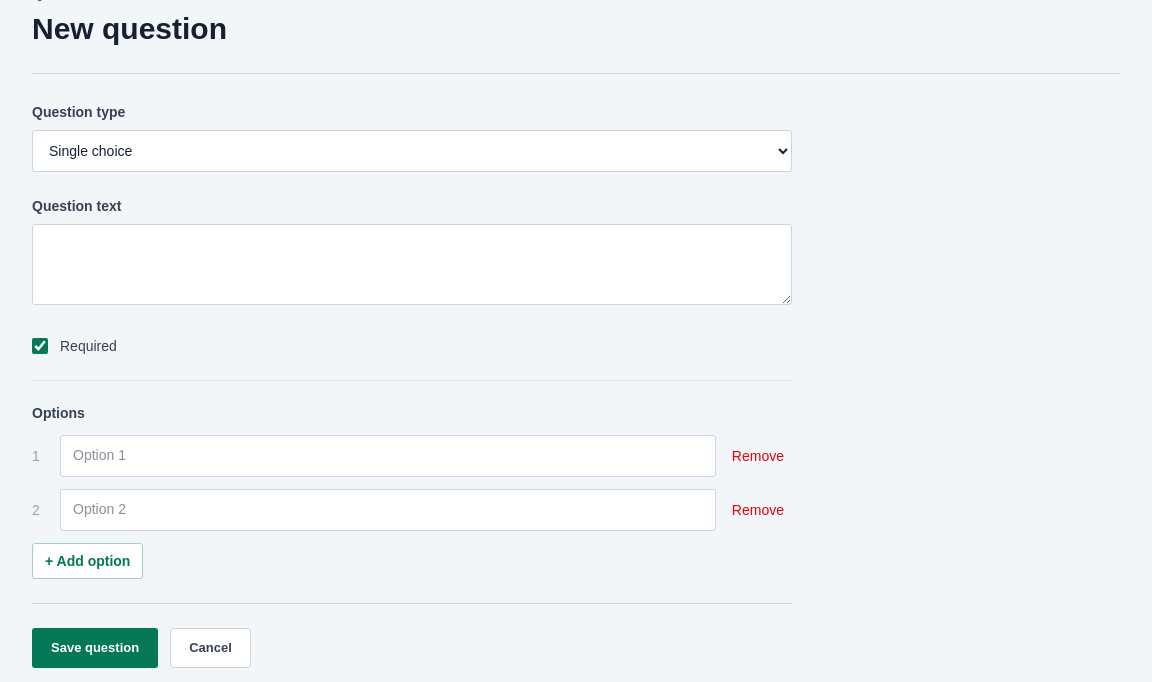
Test: question form workspace › keeps scale settings and option editing available
(page scrolled)
Step 1. Click the button "+ Add option" → (88, 560), box [32,542,143,578]
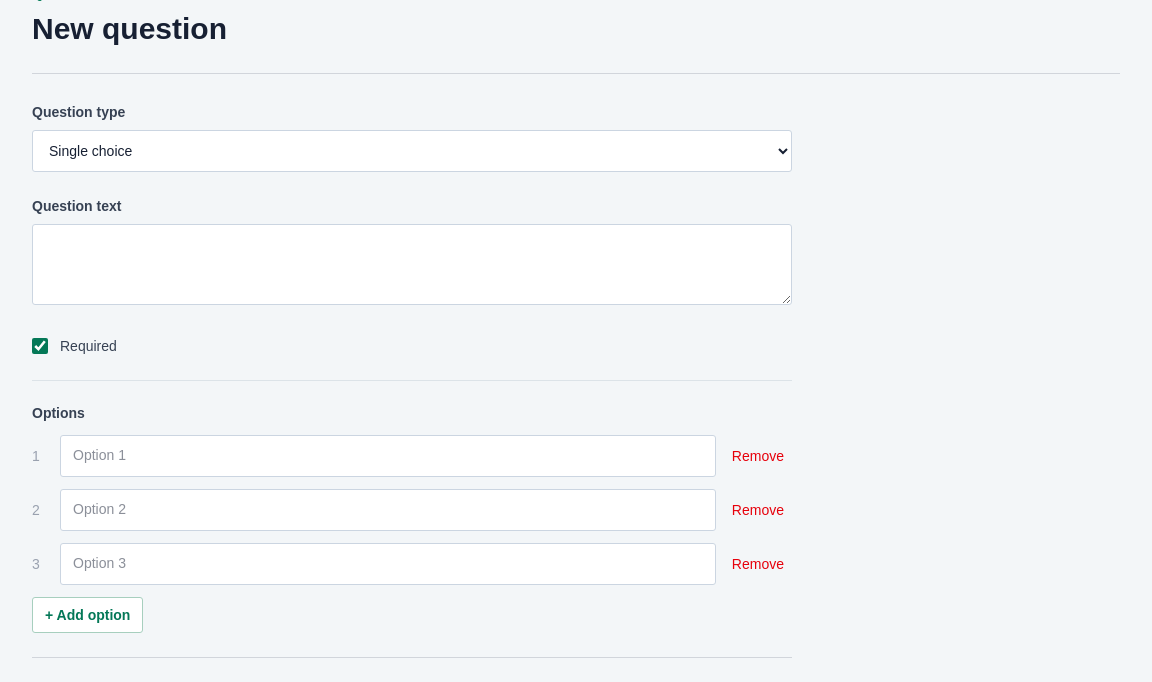
Expected: the field labelled "Option 3" is shown, [60,542,716,584]
Step 2. Select "Scale" in the dropdown labelled "Question type" → (412, 150), box [32,130,792,172]
(page scrolled)
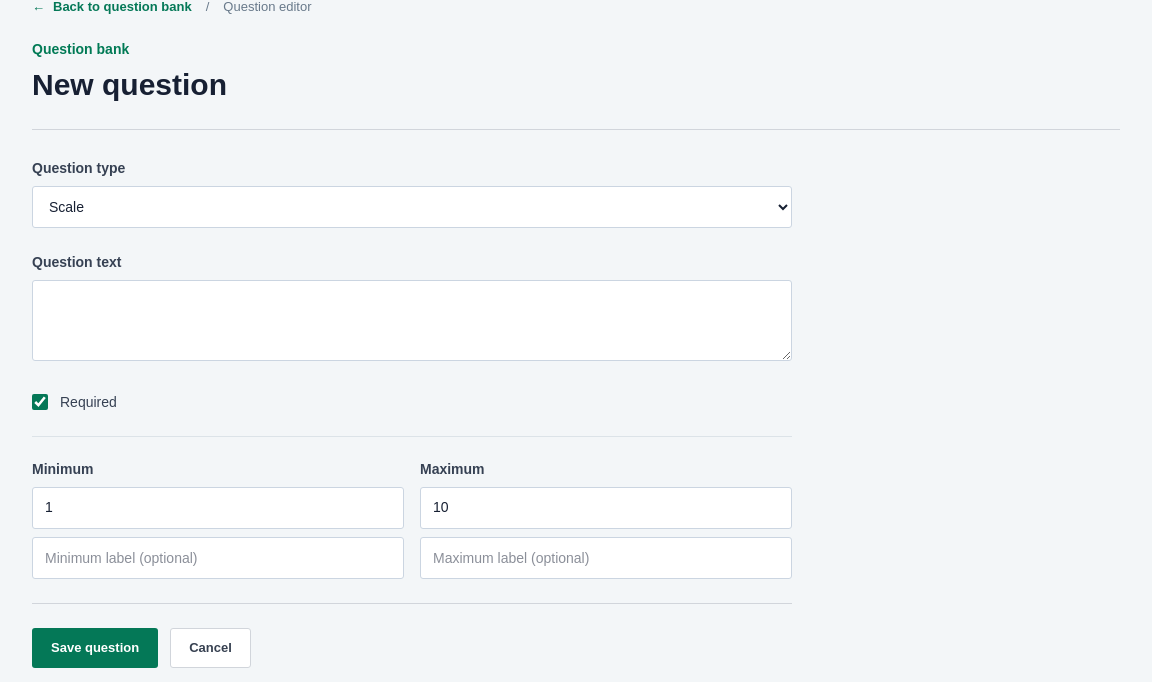
Expected: the number field labelled "Minimum" is shown, [32,486,404,528]
Expected: the number field labelled "Maximum" is shown, [420,486,792,528]
Expected: the field labelled "Minimum label" is shown, [32,536,404,578]
